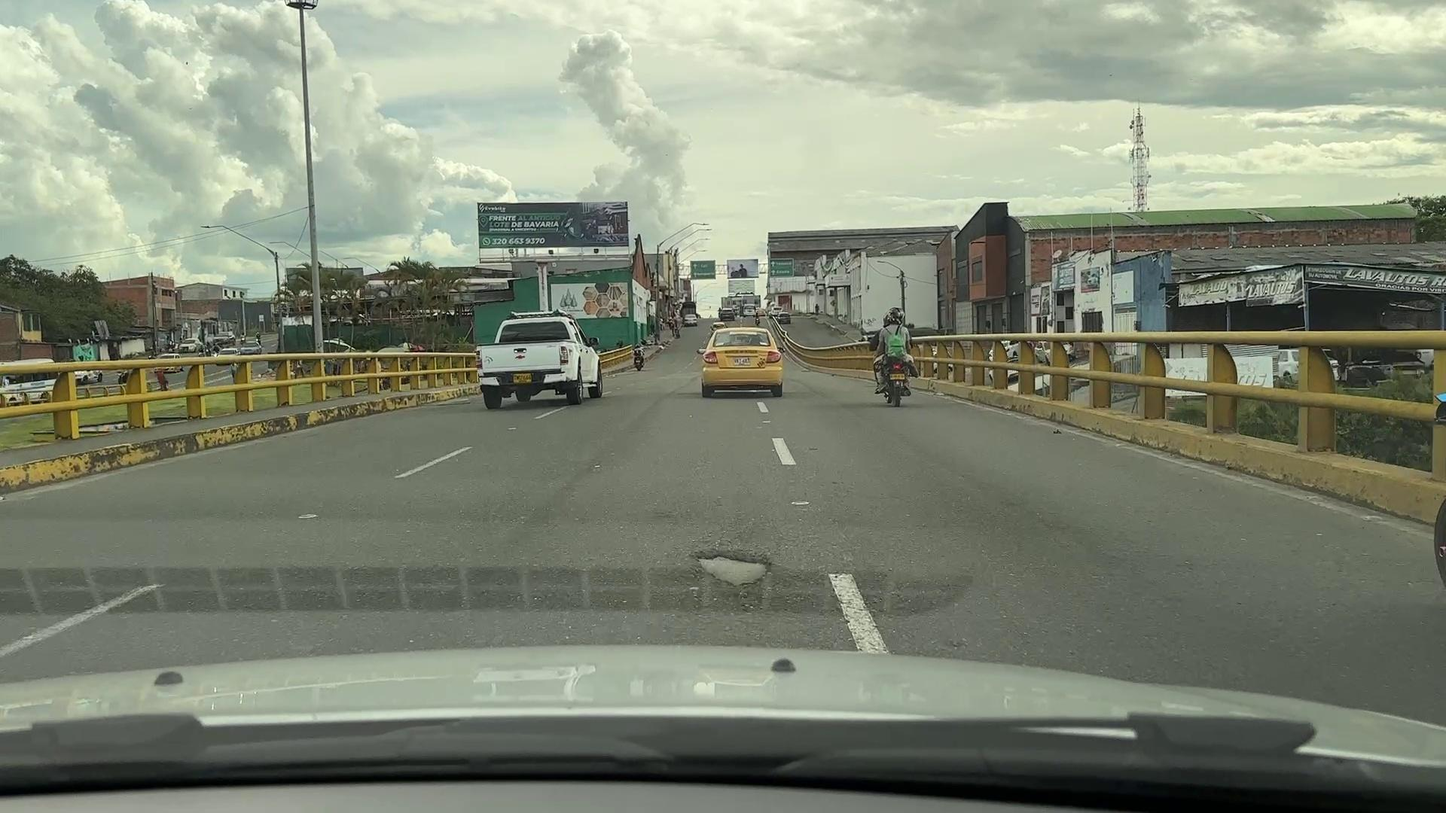bache: (694, 549, 770, 586)
